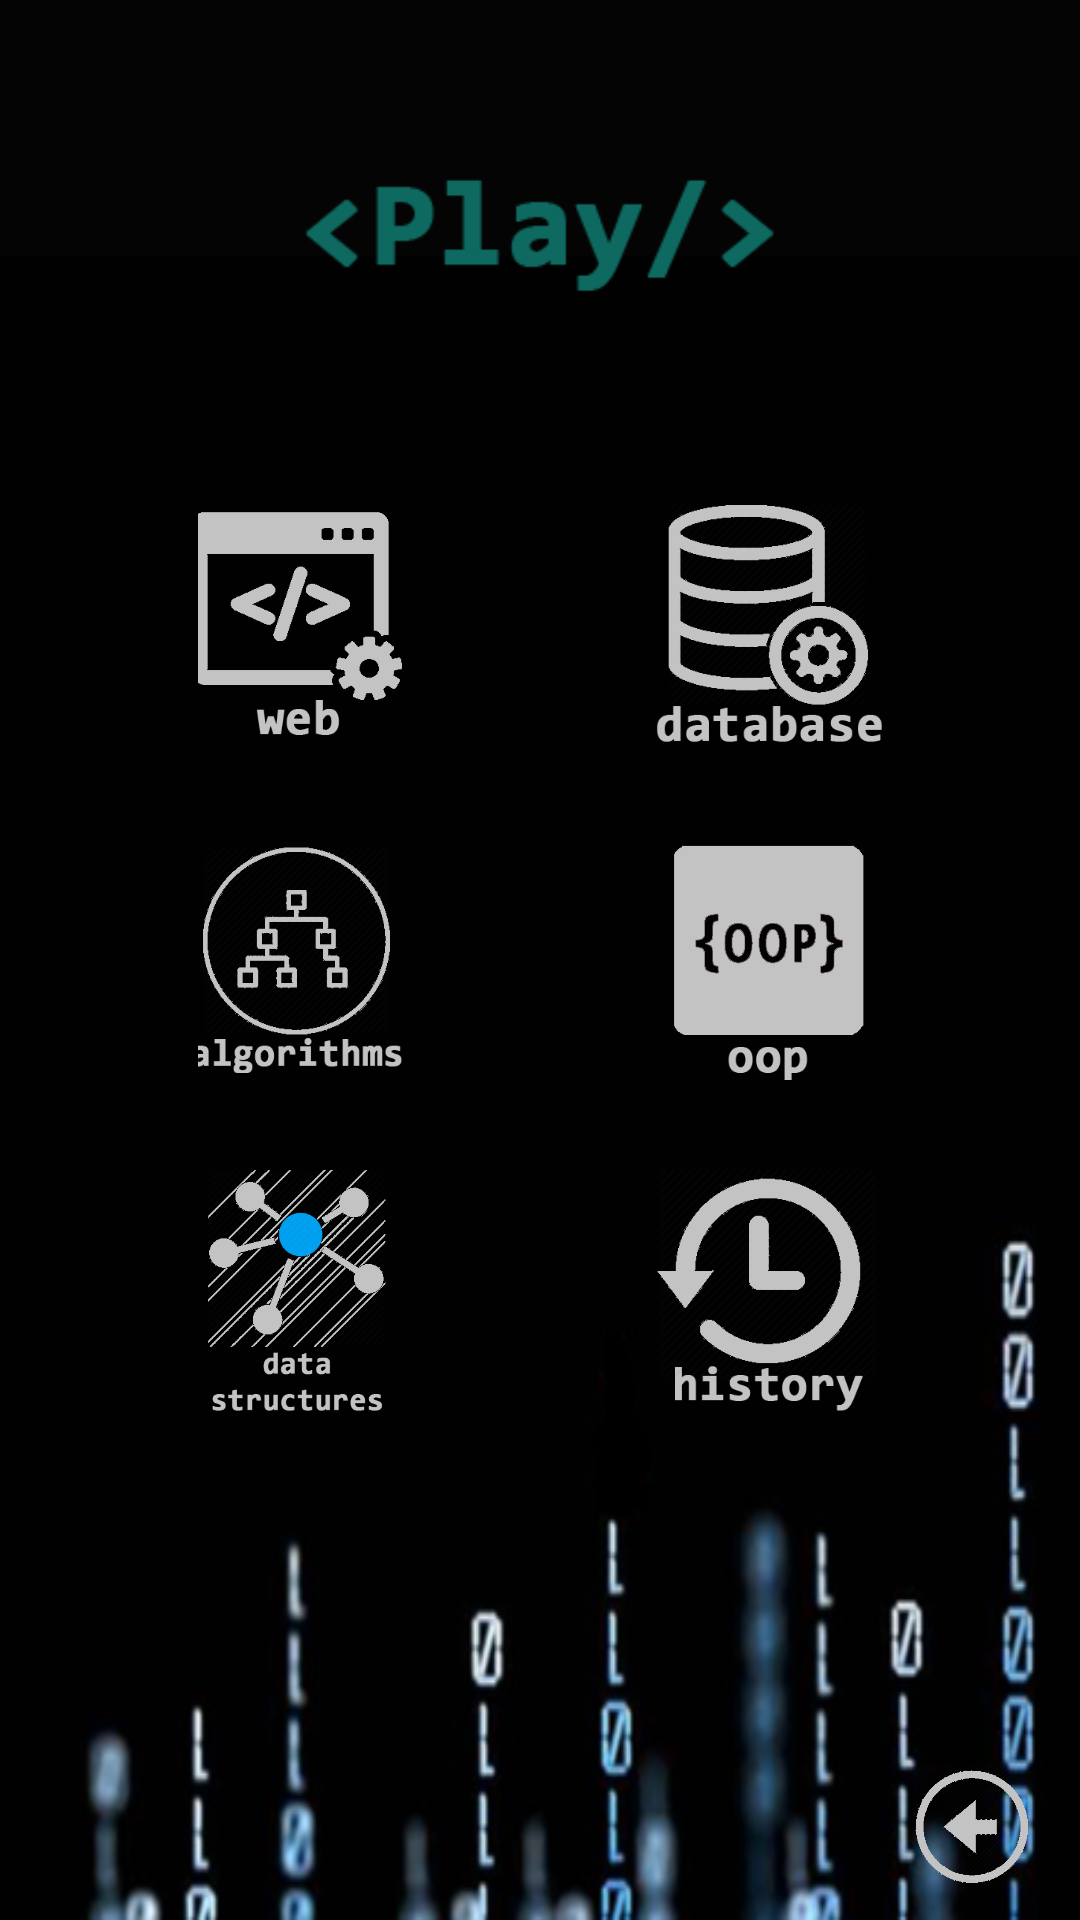

Locate icon controls on the screen. Image size 1080x1920, boxes as (x1, y1, x2, y2).
back: (909, 1764, 1035, 1890)
